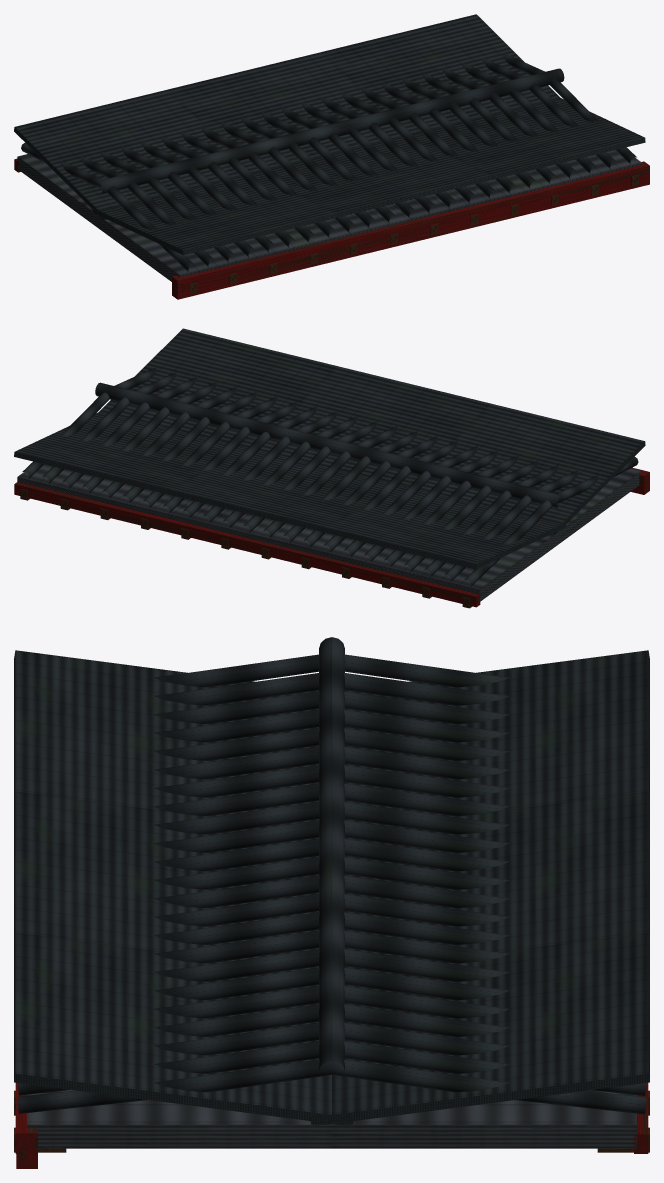
File: roof_seg.glb
3 views of the same model, one above another, from view 1: azimuth 30°, elevation 25°; view 2: azimuth 150°, elevation 25°; view 3: azimuth 270°, elevation 25° (orthographic). The views are drawn at different scales.
Visible parts, largest first — view 1: Art_SlateGrey, Slab, Fascia, Art_BurntLacquer, Art_WarmWood; view 2: Art_SlateGrey, Slab, Art_BurntLacquer, Art_WarmWood; view 3: Art_SlateGrey, Slab, Fascia, Art_BurntLacquer.
Boxes of the visible parts, bbox=[...] form: Art_SlateGrey: bbox=[14, 14, 645, 272]; Slab: bbox=[17, 150, 641, 281]; Fascia: bbox=[172, 161, 649, 299]; Art_BurntLacquer: bbox=[14, 158, 644, 292]; Art_WarmWood: bbox=[189, 174, 638, 293]; Art_SlateGrey: bbox=[14, 328, 645, 586]; Slab: bbox=[17, 464, 641, 601]; Art_BurntLacquer: bbox=[14, 482, 480, 607]; Art_WarmWood: bbox=[20, 489, 472, 608]; Art_SlateGrey: bbox=[14, 637, 649, 1126]; Slab: bbox=[27, 1090, 636, 1148]; Fascia: bbox=[16, 1082, 37, 1168]; Art_BurntLacquer: bbox=[15, 1082, 648, 1153].
Size of what is drawn, in the model's own units: 4.7 by 0.526 by 2.92.
5 materials, 5 textured.
